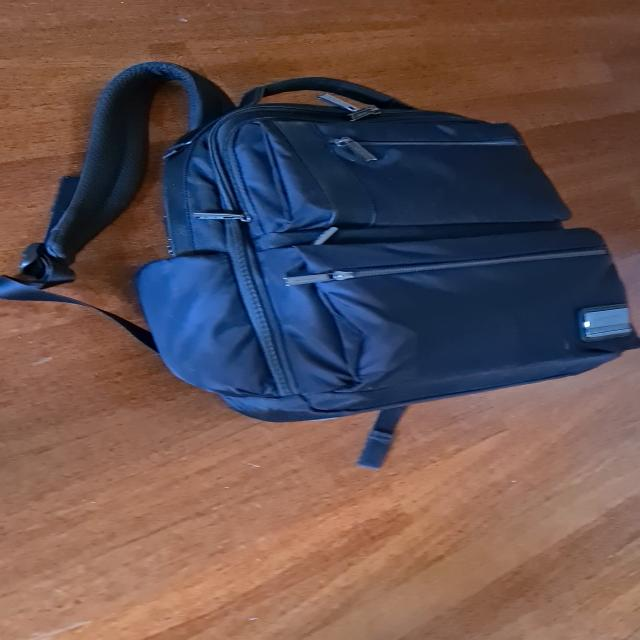backpack: (116, 63, 640, 432)
